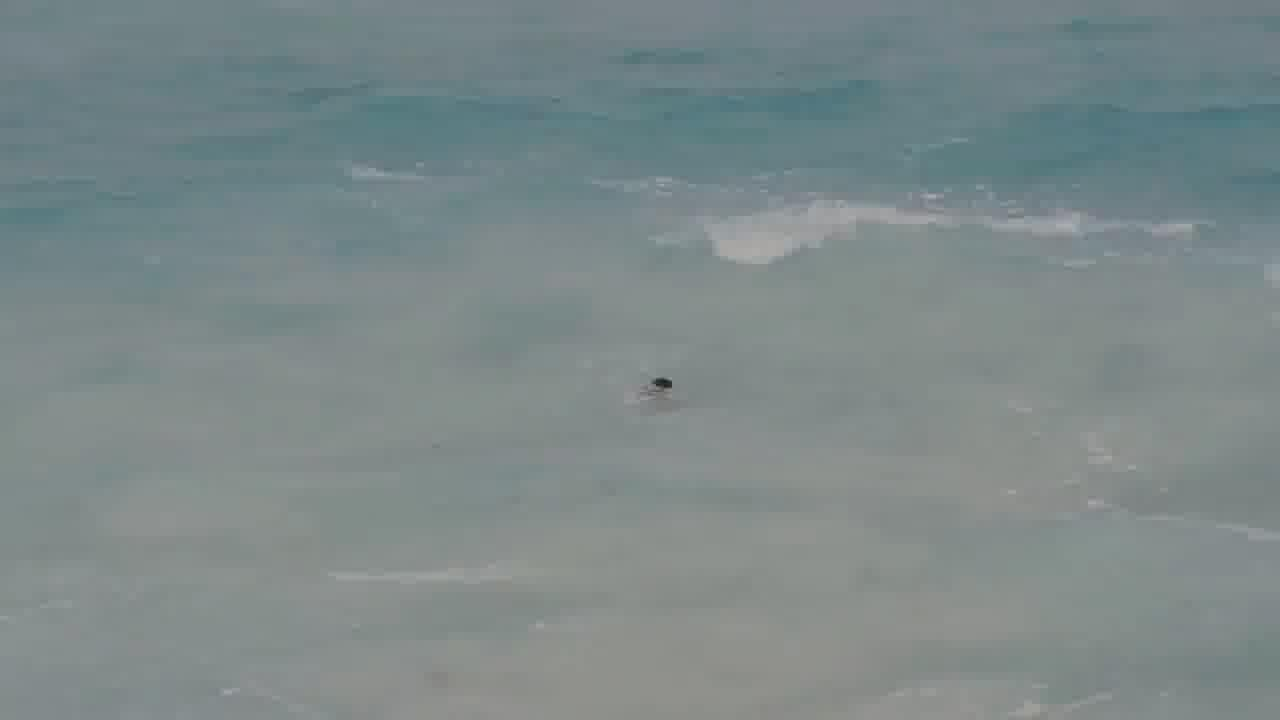swimmer: (643, 350, 682, 409)
